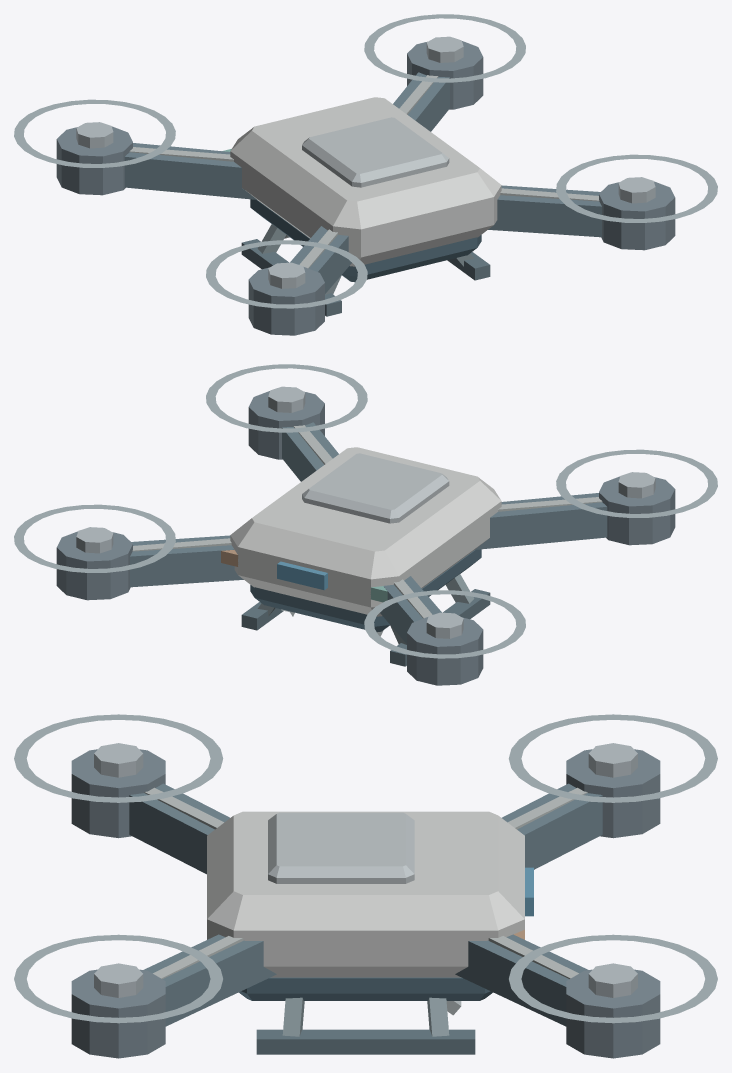
The model's file is drone.glb.
The picture shows the model from 3 angles, top to bottom: view 1: azimuth 30°, elevation 25°; view 2: azimuth 150°, elevation 25°; view 3: azimuth 270°, elevation 25°; orthographic projection. The views are drawn at different scales.
Parts seen in each view (by area): view 1: drone; view 2: drone; view 3: drone.
Boxes of the visible parts, bbox=[...] form: drone: bbox=[14, 14, 717, 335]; drone: bbox=[14, 364, 717, 685]; drone: bbox=[14, 714, 717, 1058].
Size of the model in its own units: 3.84 by 0.95 by 3.7.
